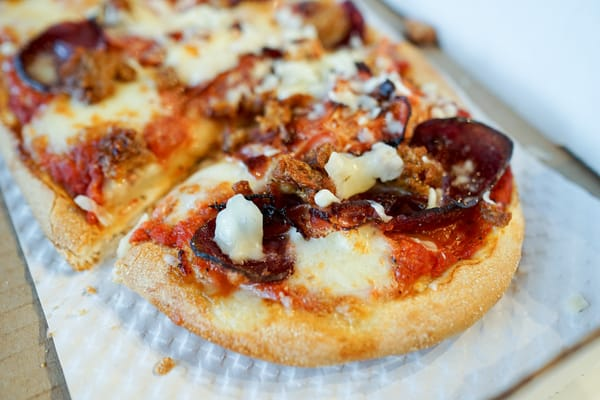sandwich: (11, 0, 530, 368)
